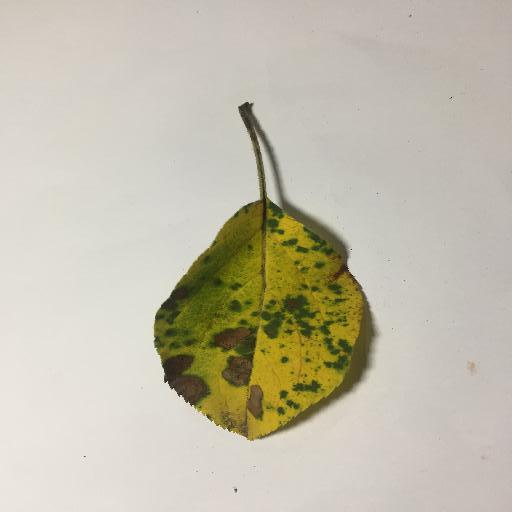Brown_Spot: (166, 377, 213, 403), (322, 259, 354, 290), (223, 358, 252, 384), (246, 387, 264, 416), (209, 330, 246, 344), (164, 356, 188, 372), (285, 299, 300, 313)
